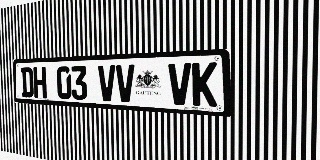0: (56, 66, 72, 100)
3: (71, 66, 87, 100)
D: (21, 67, 34, 98)
H: (33, 67, 47, 98)
K: (192, 62, 217, 107)
V: (168, 63, 191, 105), (116, 64, 135, 103), (98, 65, 116, 102)
